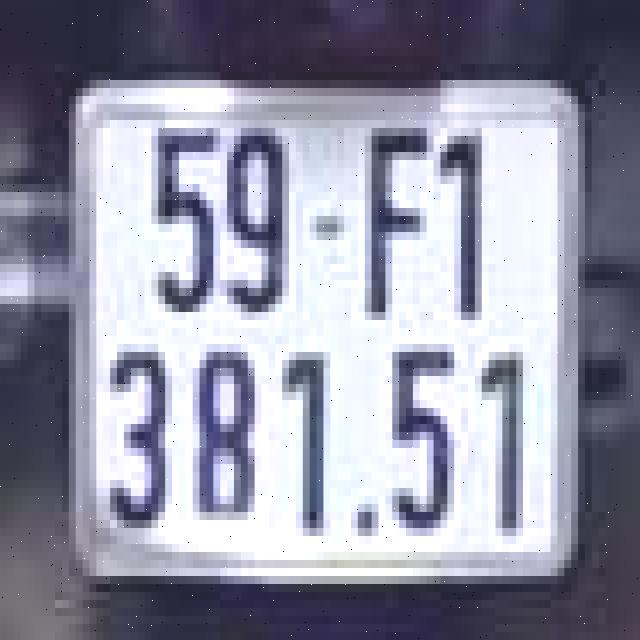1: (275, 340, 344, 548), (478, 332, 540, 548), (440, 120, 496, 328)
3: (103, 340, 172, 532)
5: (382, 328, 458, 536), (145, 112, 220, 312)
8: (179, 336, 261, 544)
9: (217, 116, 299, 316)
F: (354, 112, 437, 320)
